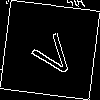V: (25, 25, 79, 81)
